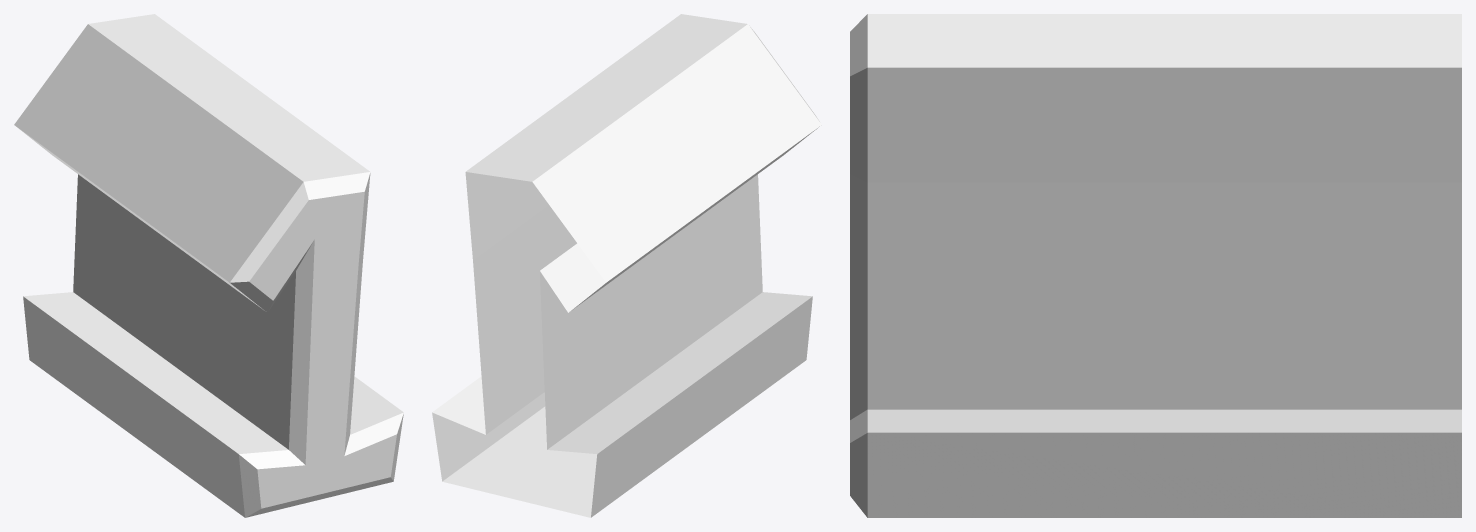
Rendered from Number01.fbx.
3 views of the same model, side by side, from view 1: azimuth 30°, elevation 25°; view 2: azimuth 150°, elevation 25°; view 3: azimuth 270°, elevation 25° (orthographic). The views are drawn at different scales.
Parts seen in each view (by area): view 1: Number01_Model; view 2: Number01_Model; view 3: Number01_Model.
Part boxes in pixels (x1,y1,x2,y2): Number01_Model: (14, 14, 403, 517); Number01_Model: (432, 14, 821, 517); Number01_Model: (850, 14, 1461, 517).
Size of the model in its own units: 65.81 by 116 by 145.
1 material, 1 textured.
